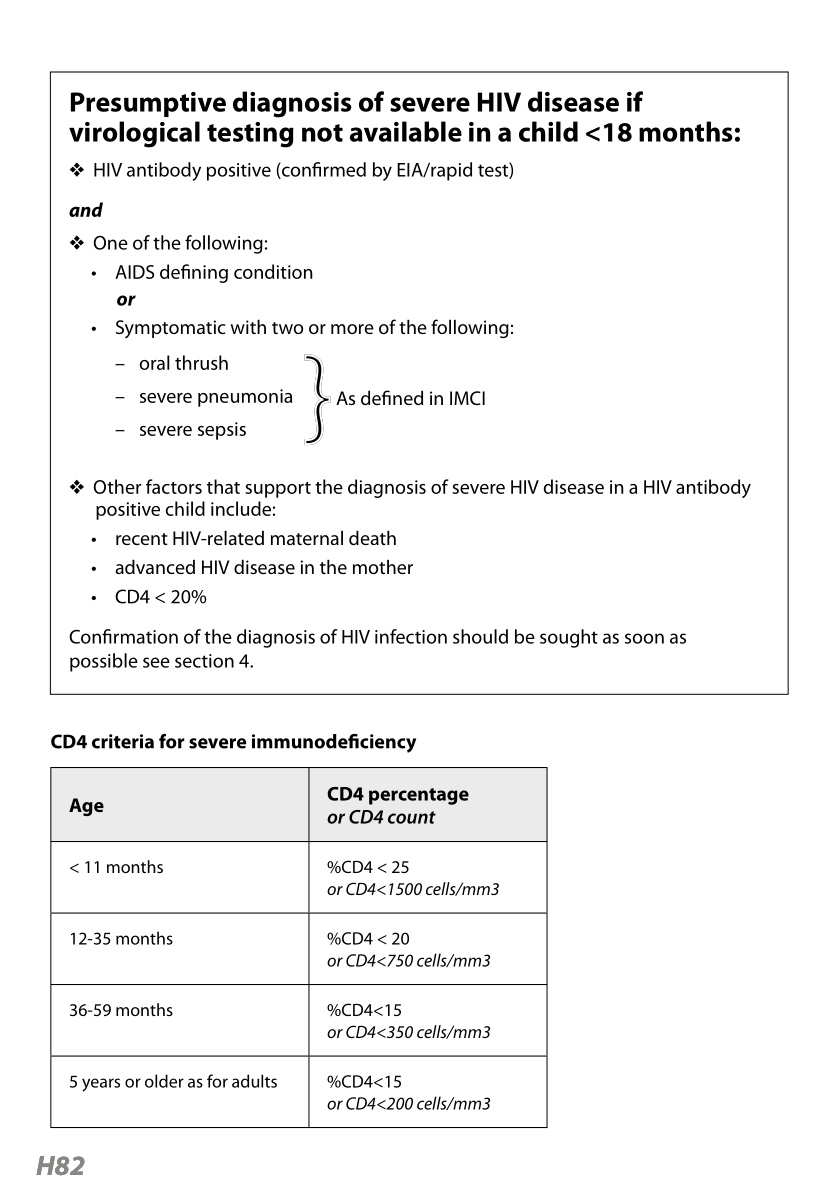full_lined: (49, 767, 548, 1129)
